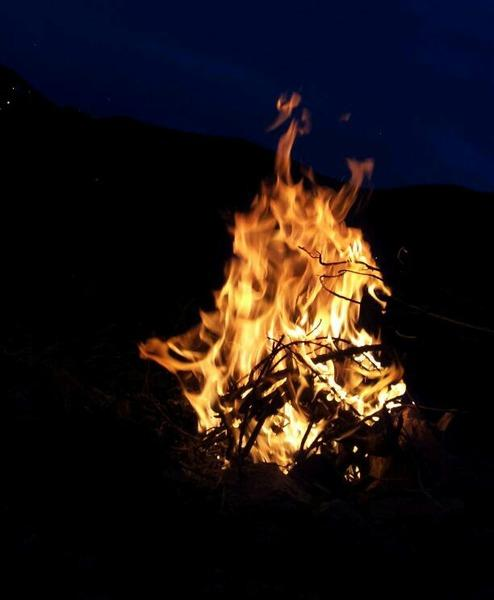Fire: (132, 84, 425, 481)
